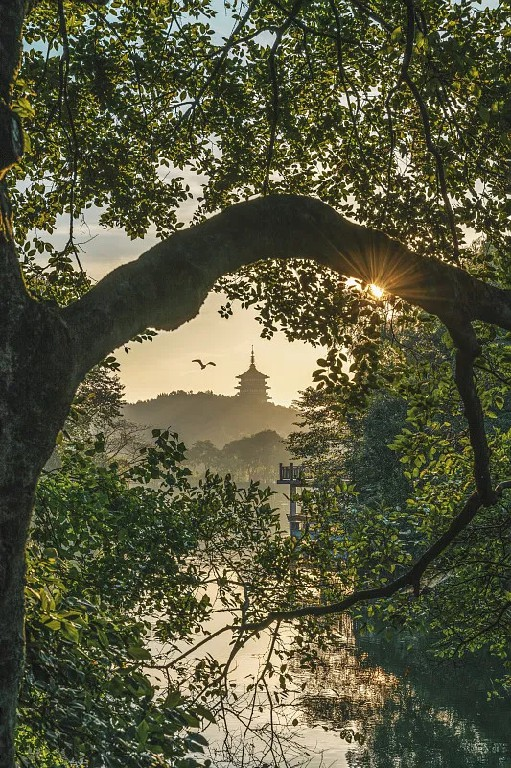Leifeng: (234, 346, 272, 406)
